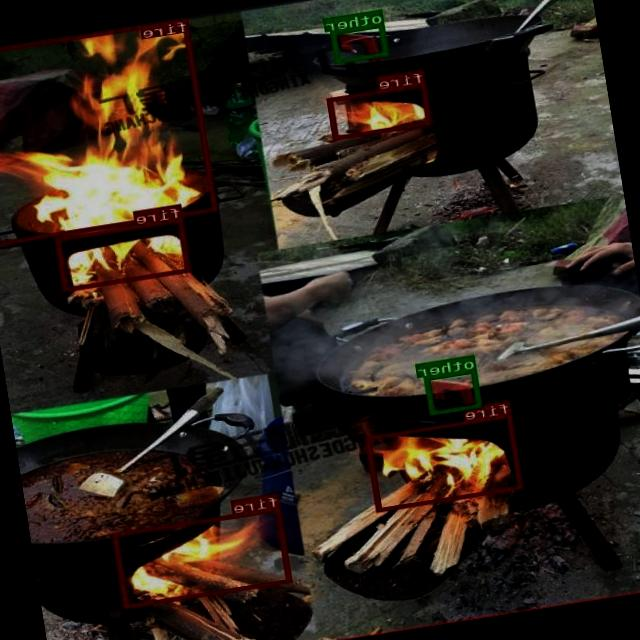fire: (0, 17, 219, 246), (112, 506, 294, 608), (366, 412, 525, 512), (56, 218, 192, 292), (328, 82, 434, 140)
